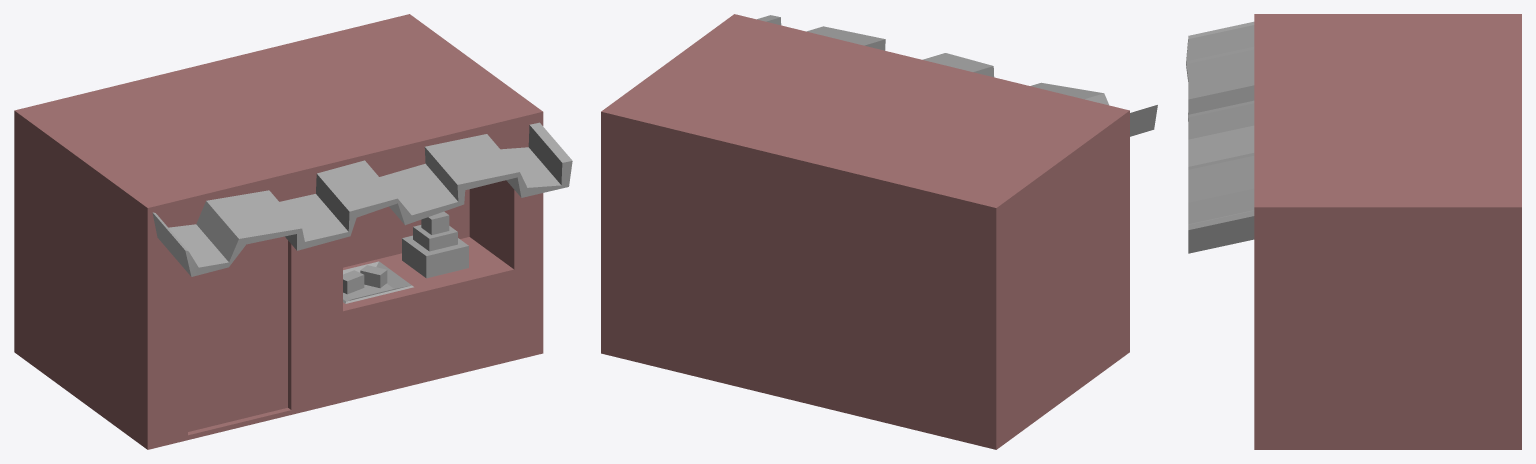
The model's file is cakeshopfbx.fbx.
3 renders of one model, left to right at view 1: azimuth 30°, elevation 25°; view 2: azimuth 150°, elevation 25°; view 3: azimuth 270°, elevation 25°, orthographic.
Parts seen in each view (by area): view 1: polySurface1; view 2: polySurface1; view 3: polySurface1.
Part boxes in pixels (x1,y1,x2,y2): polySurface1: (14,14,572,449); polySurface1: (601,14,1157,449); polySurface1: (1186,14,1521,449).
Bounding box in the file's own units: 9.29 × 5.43 × 6.81.
